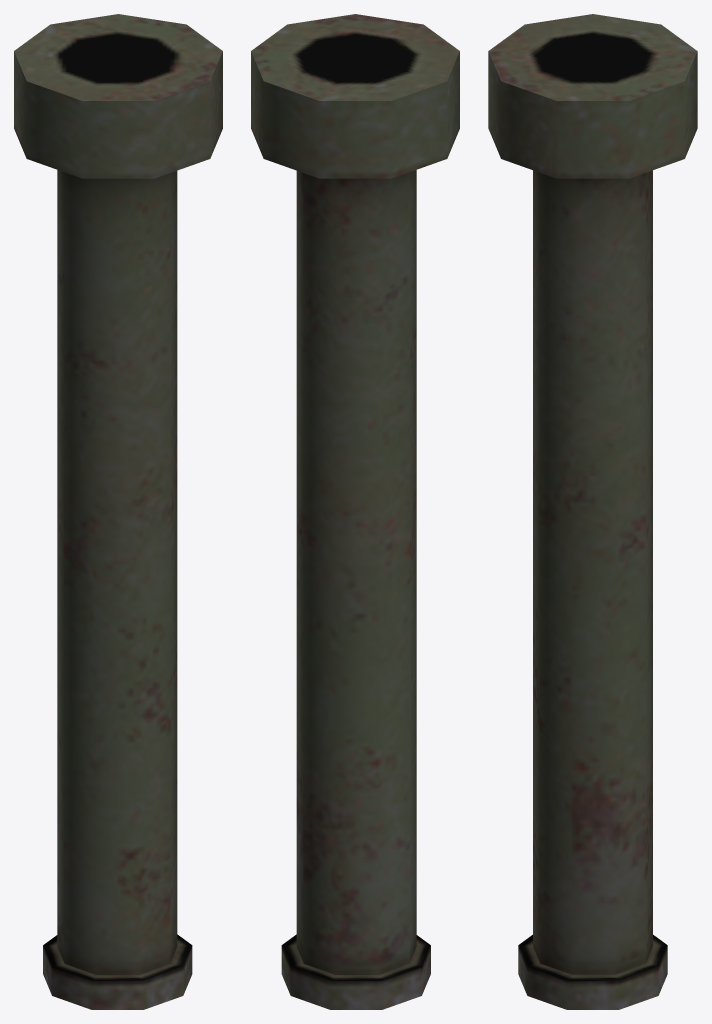
Rendered from Vent_11.fbx.
The picture shows the model from 3 angles, left to right: view 1: azimuth 30°, elevation 25°; view 2: azimuth 150°, elevation 25°; view 3: azimuth 270°, elevation 25°; orthographic projection.
Parts seen in each view (by area): view 1: Vent_11; view 2: Vent_11; view 3: Vent_11.
Part boxes in pixels (x1,y1,x2,y2): Vent_11: (14,14,222,1009); Vent_11: (251,14,459,1009); Vent_11: (488,14,697,1009).
Bounding box in the file's own units: 25.83 × 128 × 26.22.
